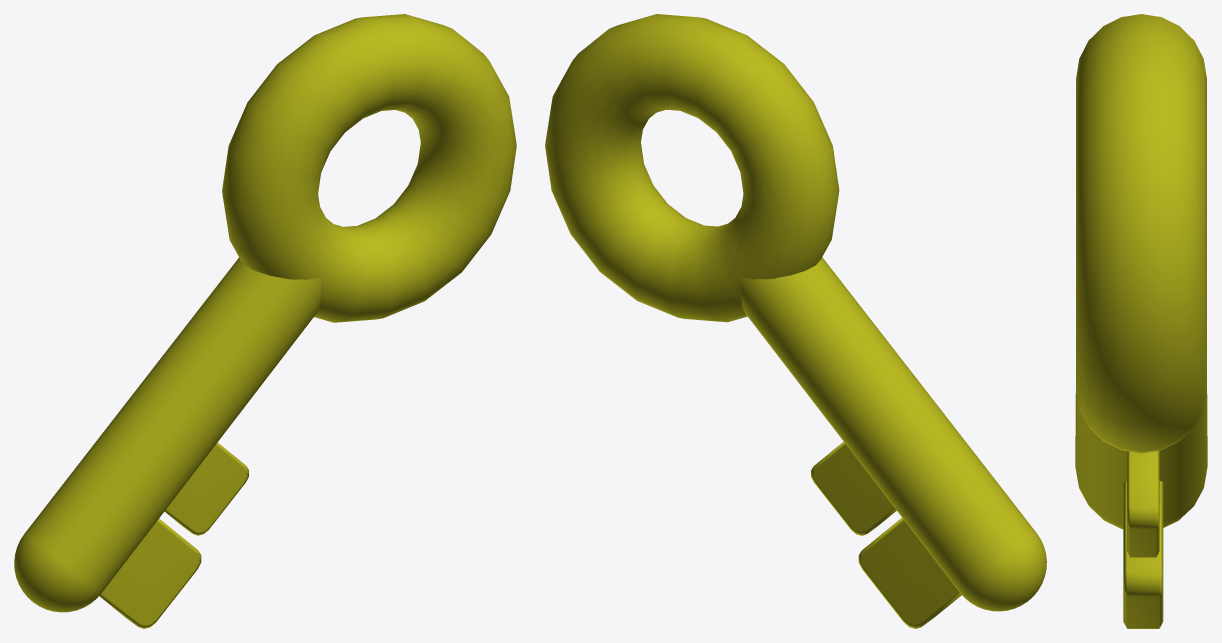
File: Key.fbx
3 renders of one model, left to right at view 1: azimuth 30°, elevation 25°; view 2: azimuth 150°, elevation 25°; view 3: azimuth 270°, elevation 25°, orthographic. The views are drawn at different scales.
Parts seen in each view (by area): view 1: Key_msh; view 2: Key_msh; view 3: Key_msh.
Boxes of the visible parts, bbox=[...] form: Key_msh: bbox=[14, 14, 516, 628]; Key_msh: bbox=[545, 14, 1046, 628]; Key_msh: bbox=[1075, 14, 1207, 628].
Size of the model in its own units: 7.24 by 7.74 by 1.25.
